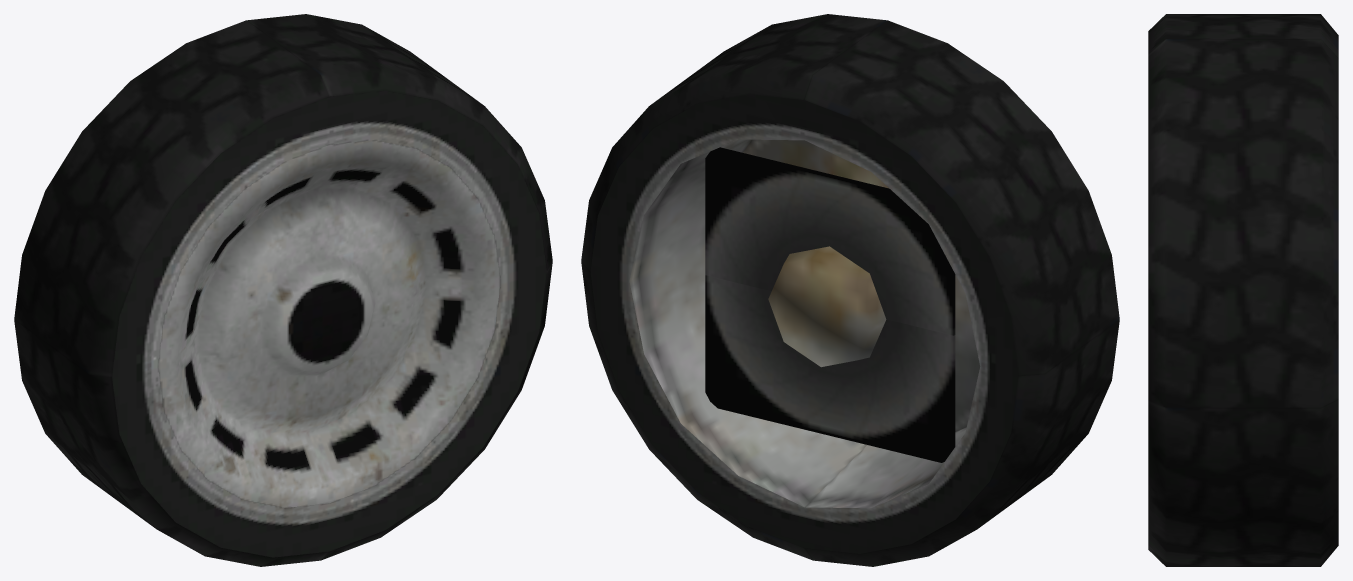
File: V_A_ExoticMuscle_Wheel_6_SkeletalMesh3_SkeletalMesh_2.psk.glb
The picture shows the model from 3 angles, left to right: view 1: azimuth 30°, elevation 25°; view 2: azimuth 150°, elevation 25°; view 3: azimuth 270°, elevation 25°; orthographic projection. The views are drawn at different scales.
Bounding box in the file's own units: 73.7 × 73.7 × 25.29.
2 materials, 2 textured.
